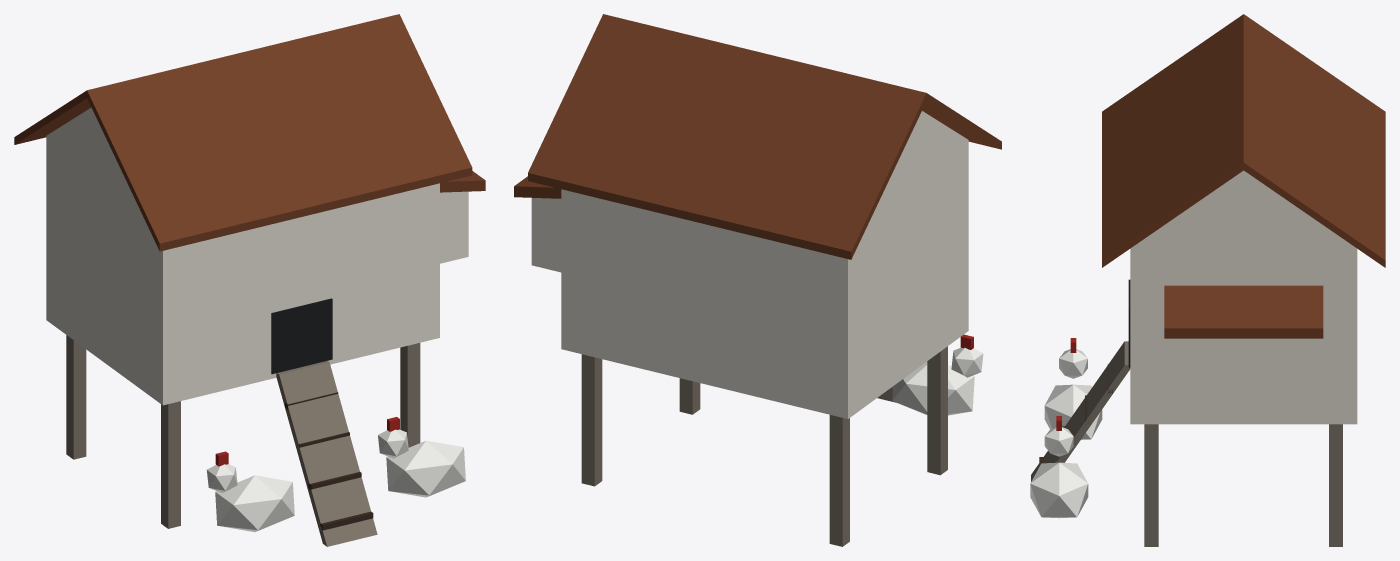
The model's file is chicken_coop.glb.
The picture shows the model from 3 angles, left to right: view 1: azimuth 30°, elevation 25°; view 2: azimuth 150°, elevation 25°; view 3: azimuth 270°, elevation 25°; orthographic projection. The views are drawn at different scales.
Parts seen in each view (by area): view 1: chicken_coop; view 2: chicken_coop; view 3: chicken_coop.
Boxes of the visible parts, x1,y1,x2,y2 form: chicken_coop: (14,14,485,546); chicken_coop: (514,14,1001,546); chicken_coop: (1030,14,1385,546).
Size of the model in its own units: 1.42 by 1.55 by 1.25.
1 material, 1 textured.
